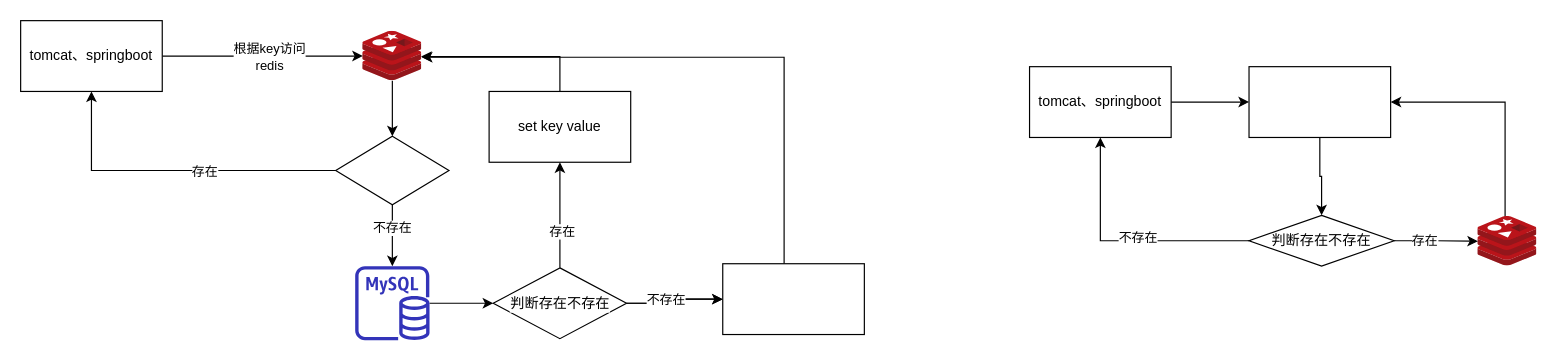
Image size: 1558x361. Some labels were removed from this diagram. The shapes that lost their labels are listed below. From the top down, each one's centre as x and y in pixels, then its label:
At (x=1319, y=101): "布隆过滤器".
At (x=392, y=170): "判断是否存在".
At (x=793, y=299): "set key null".
